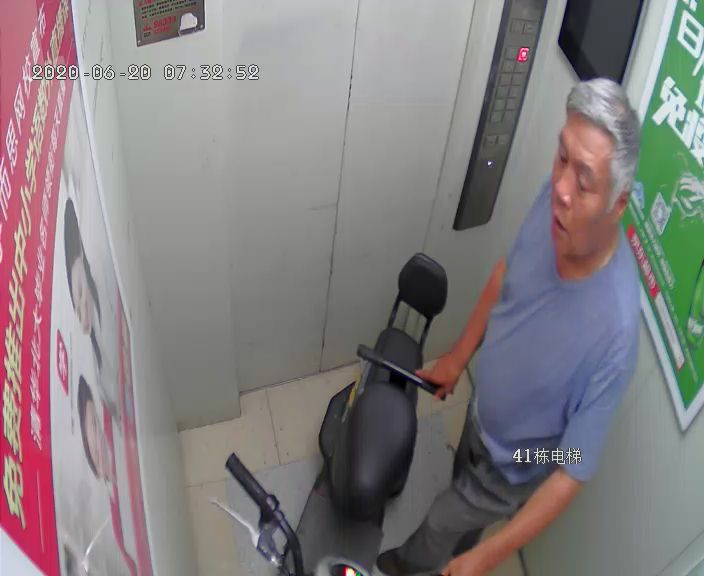Electric-bicycle: (211, 252, 458, 570)
